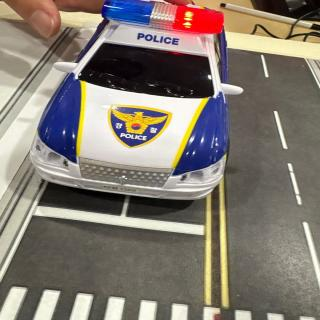Police_car: (30, 0, 243, 199)
